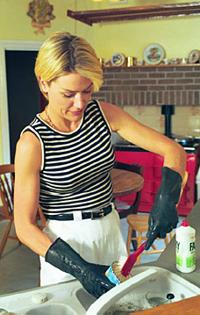person: (13, 31, 190, 301)
